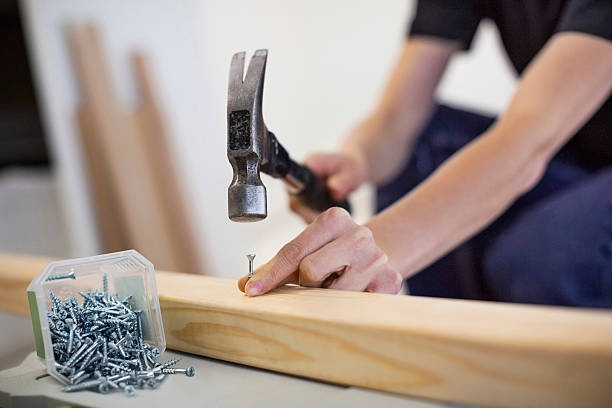hammer: (224, 47, 352, 223)
